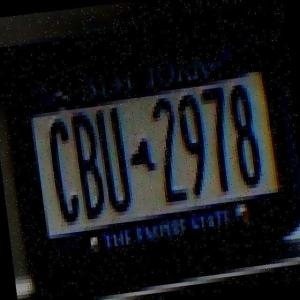Plate: (0, 0, 300, 290)
